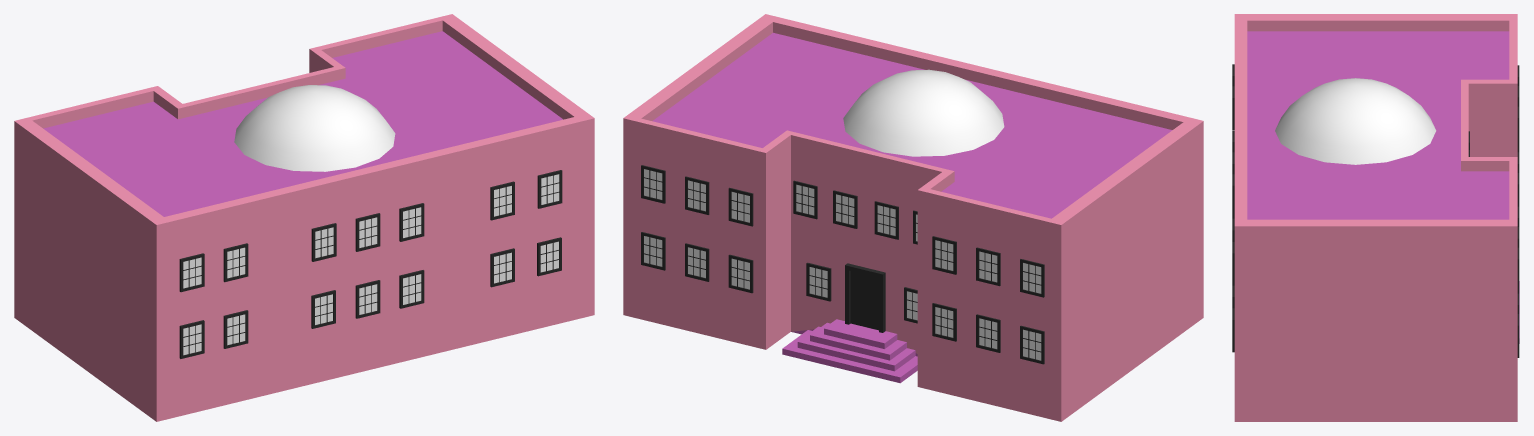
Rendered from OtherBuilding.FBX.
The picture shows the model from 3 angles, left to right: view 1: azimuth 30°, elevation 25°; view 2: azimuth 150°, elevation 25°; view 3: azimuth 270°, elevation 25°; orthographic projection.
Visible parts, largest first — view 1: building 2; view 2: building 2; view 3: building 2.
Boxes of the visible parts, x1,y1,x2,y2 form: building 2: [14, 14, 594, 421]; building 2: [623, 14, 1203, 421]; building 2: [1232, 14, 1519, 421].
Bounding box in the file's own units: 165 × 83.44 × 94.2.
